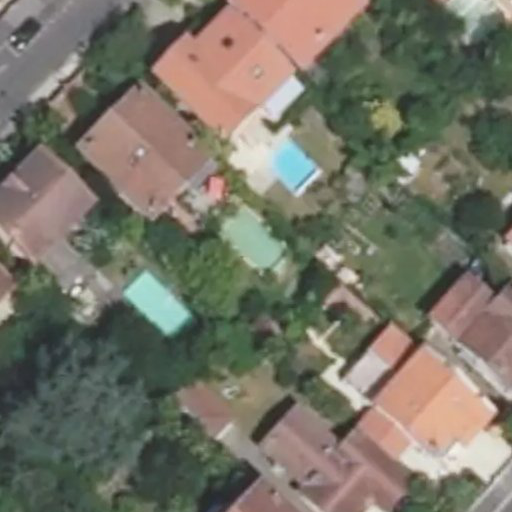pool: (219, 232, 297, 256)
